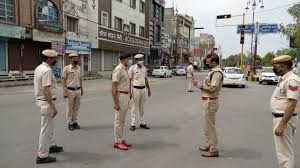mask: (268, 59, 284, 75), (43, 52, 58, 68), (205, 52, 219, 68), (70, 55, 83, 69), (120, 55, 132, 70), (135, 53, 144, 66)
